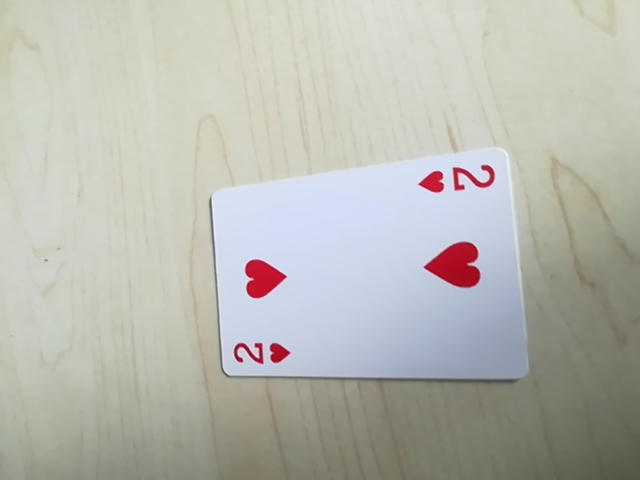hx 2: (415, 155, 504, 201), (224, 338, 294, 373)
